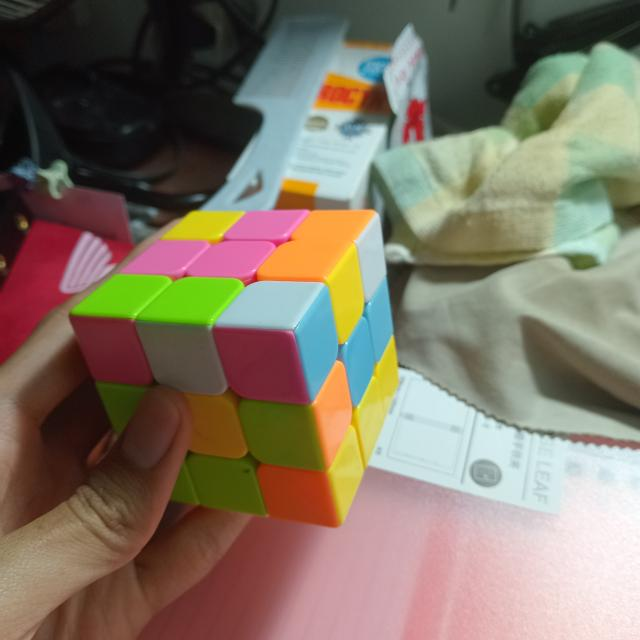back: (294, 213, 399, 525)
down: (69, 315, 339, 527)
right: (70, 209, 375, 331)
rubik: (65, 209, 400, 531)
